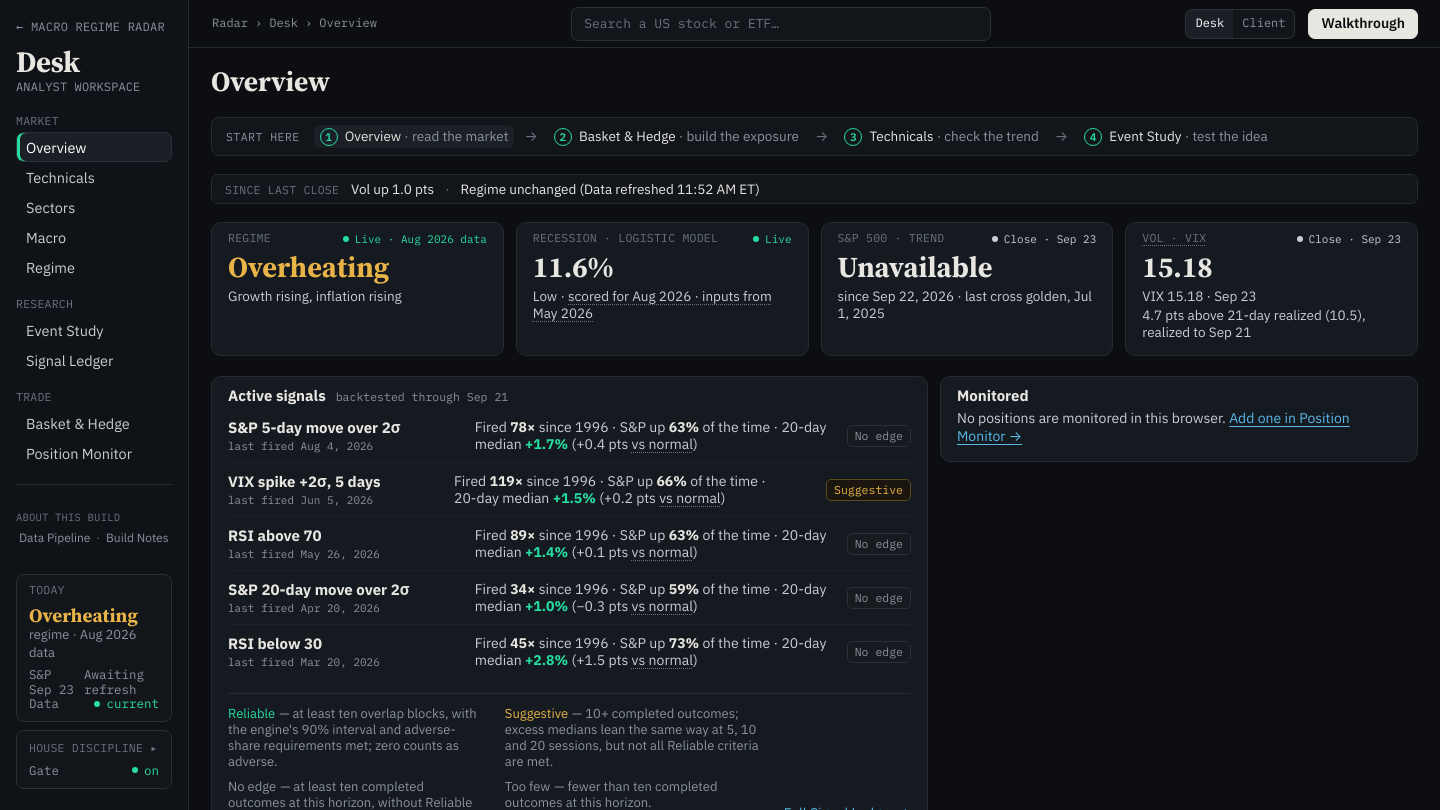
it: Desk v2 shell › Walkthrough opens step 1 on its real route
What coordinates should you click on to do the following:
click the button with test id "dk-walkthrough"
I would click on:
 (1363, 24)
Its box is [1308,8,1418,38].
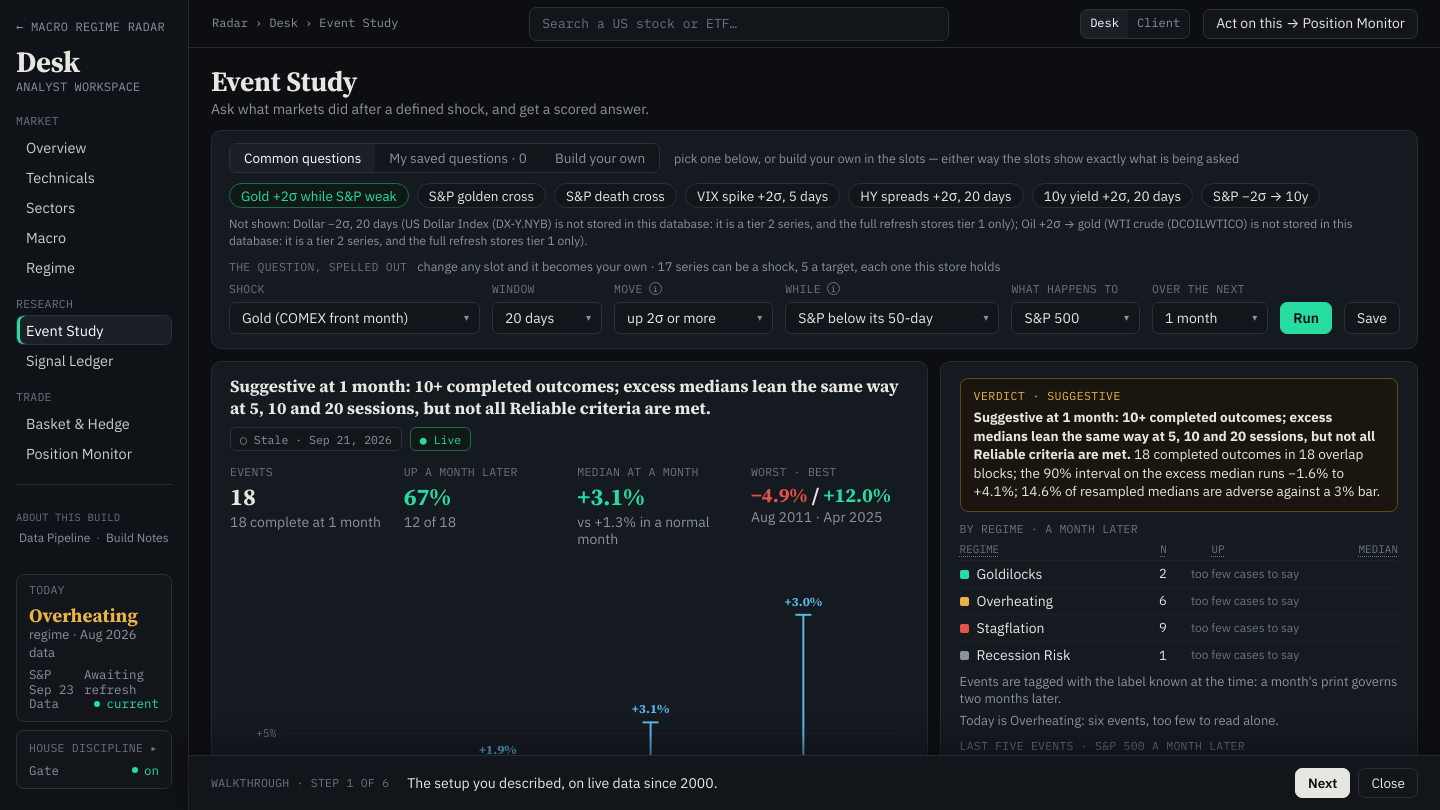
Expected: the element with test id "desk-tour" shows "Step 1 of 6", [189,755,1439,809]
